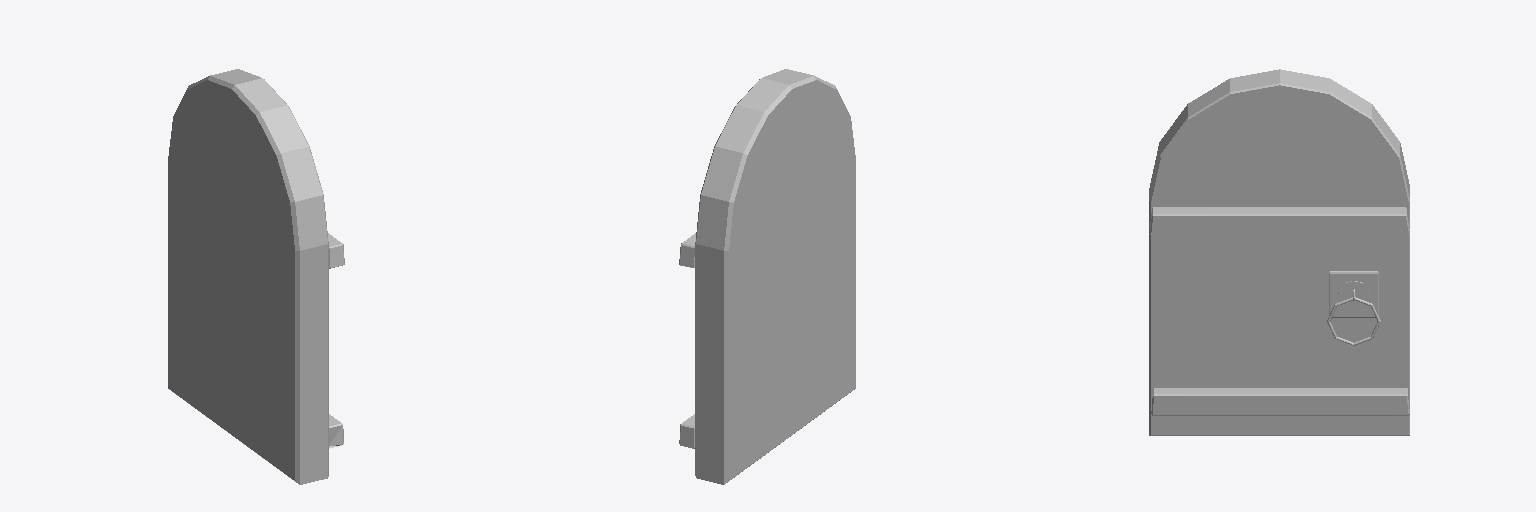
The model's file is door.obj.
3 renders of one model, left to right at view 1: azimuth 30°, elevation 25°; view 2: azimuth 150°, elevation 25°; view 3: azimuth 270°, elevation 25°, orthographic.
Visible parts, largest first — view 1: door; view 2: door; view 3: door.
Boxes of the visible parts, <box> form: door: <box>168,69,344,484</box>; door: <box>679,69,855,484</box>; door: <box>1149,69,1409,435</box>.
Size of the model in its own units: 0.6453 by 4.46 by 2.99.